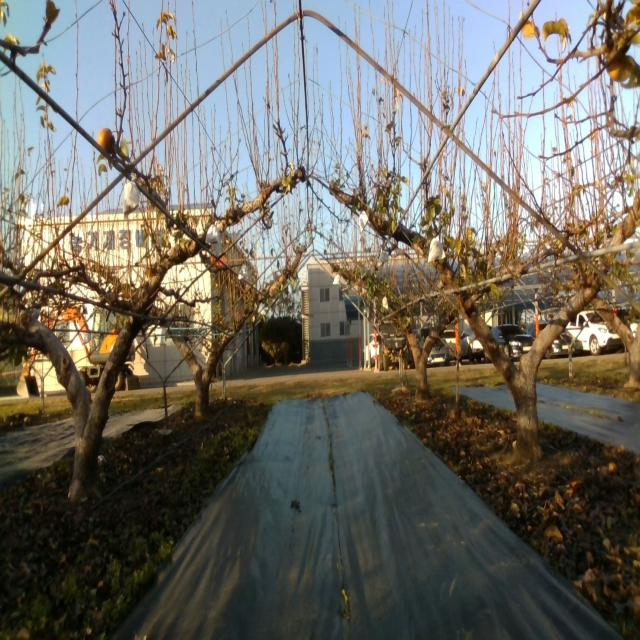pearbags: (123, 173, 140, 220), (428, 237, 446, 263), (205, 221, 220, 245), (358, 209, 369, 233), (378, 250, 390, 268)
